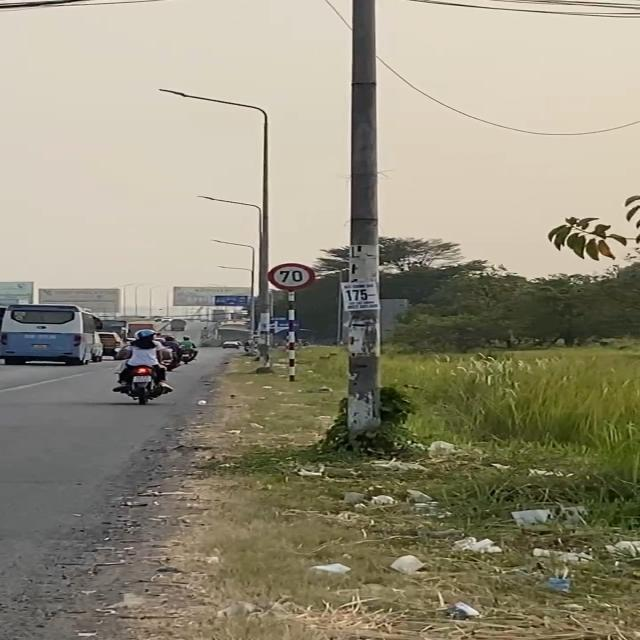127-toc-do-toi-da-70: (267, 263, 316, 291)
